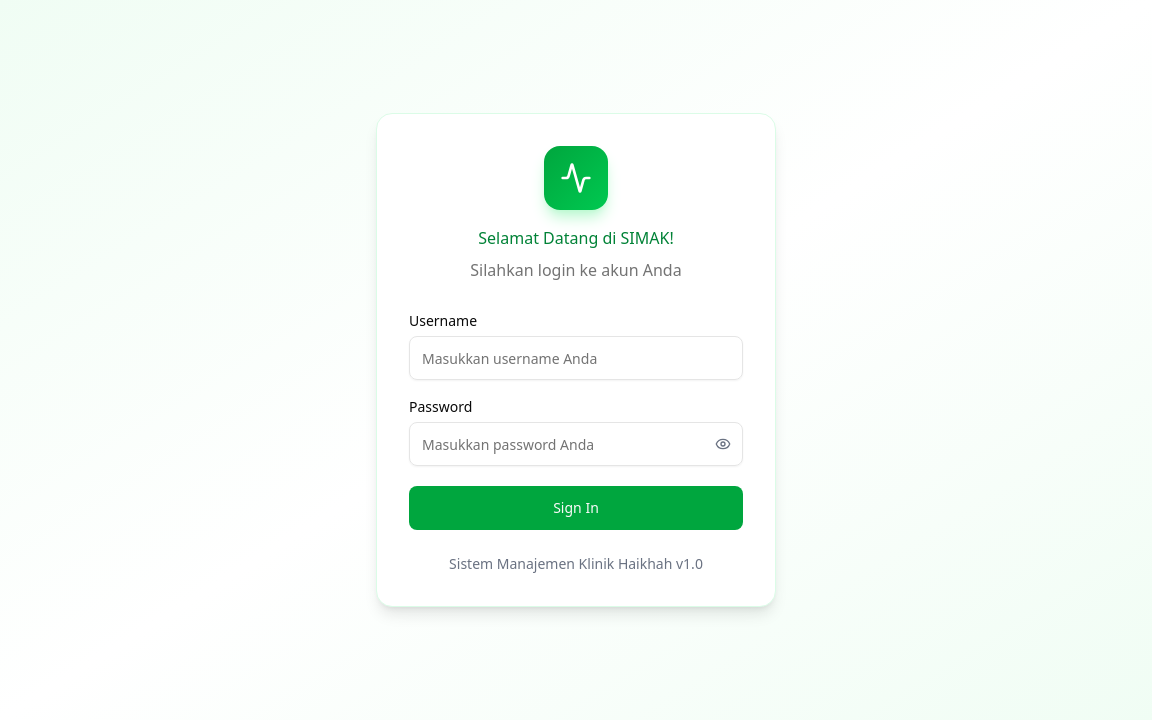
Test case: Login › Tes login sebagai staflab
In the field with id "email": (576, 358) [409,336,743,380], type "staflab"
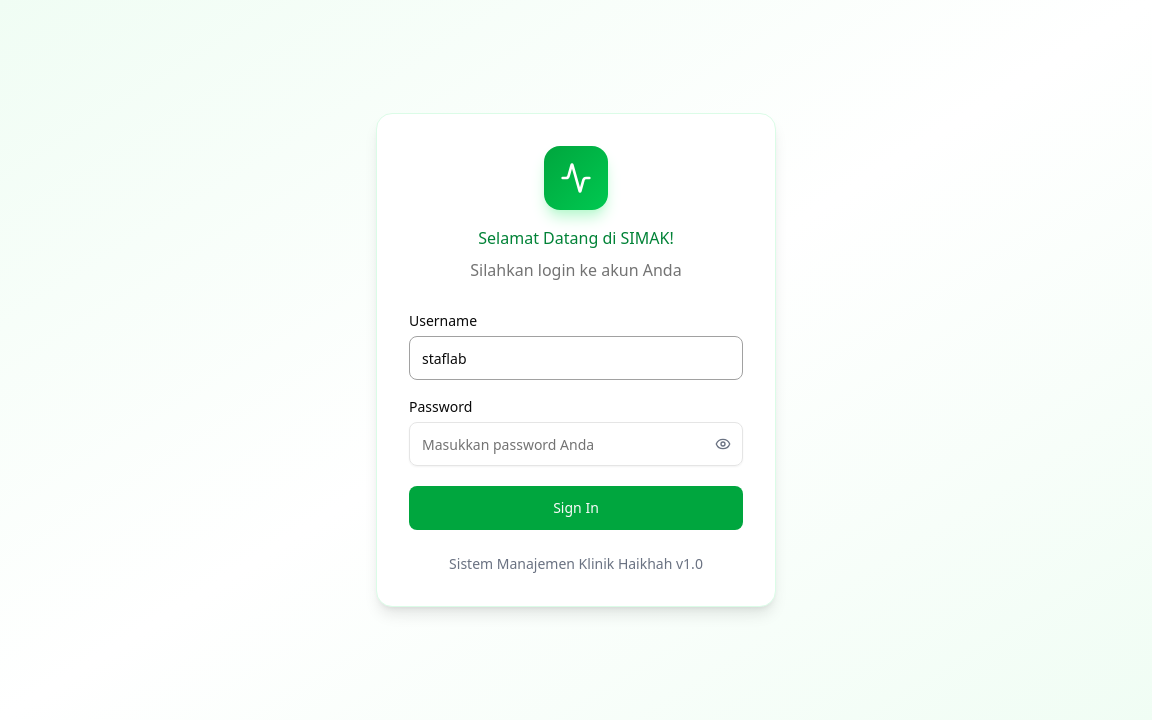
In the password field labelled "Password": (576, 444) [409,422,743,466], type "password"
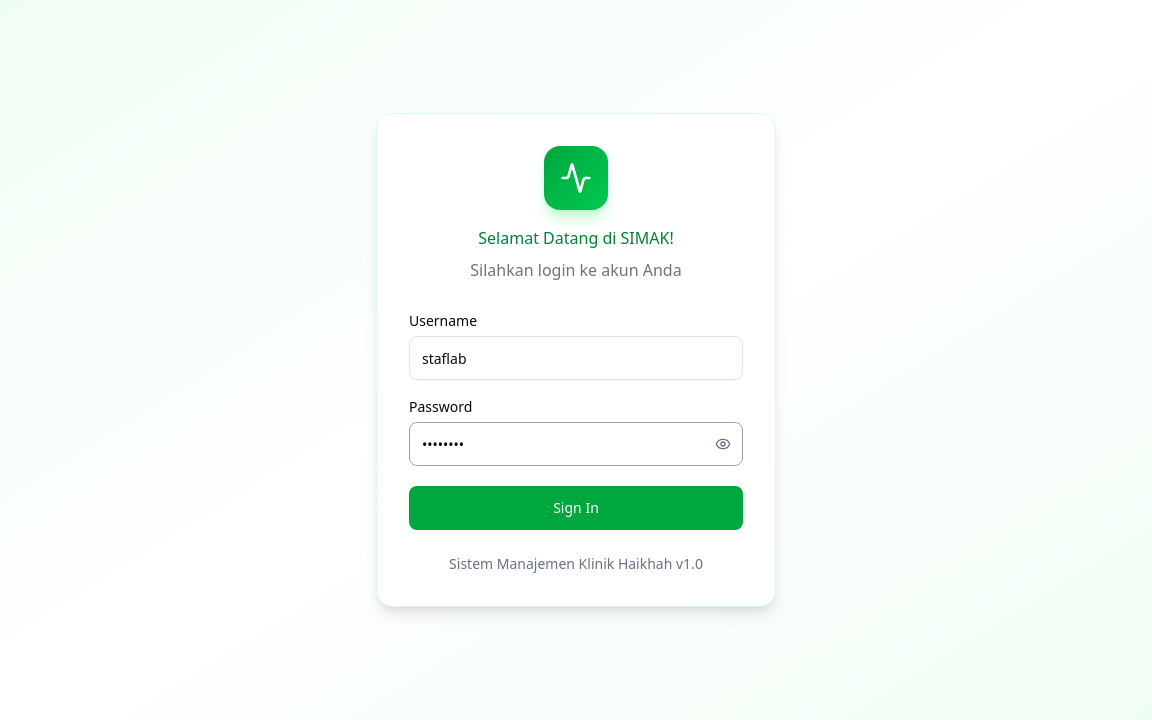
Click the button "Sign In": (576, 508) [409,486,743,530]
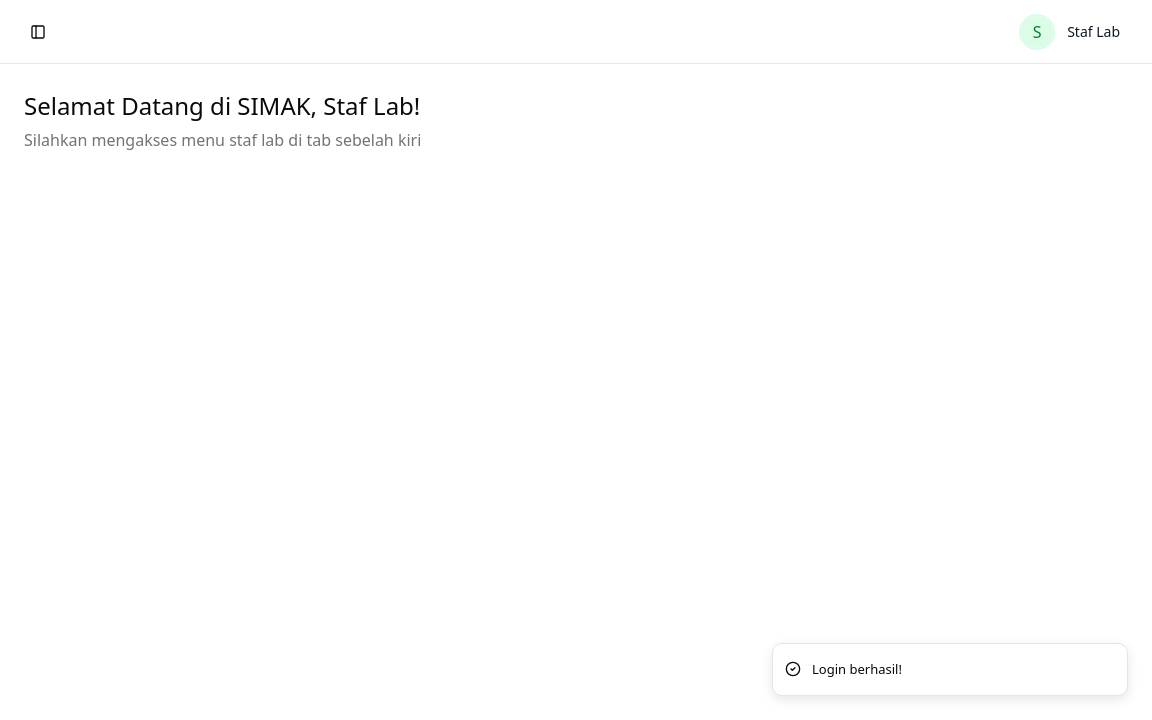
Expected: the button "S Staf Lab" is shown, [1011,8,1128,56]
